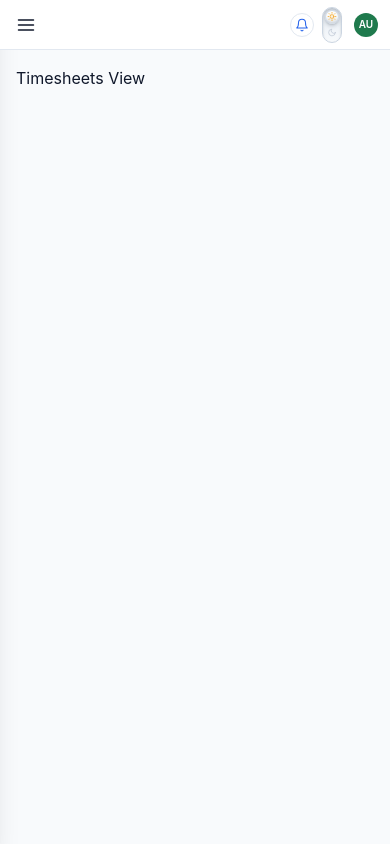
Scenario: AppShell › toggles mobile navigation drawer and closes on backdrop click
Click the button named "open navigation drawer" at (26, 24), box [12,10,40,38]
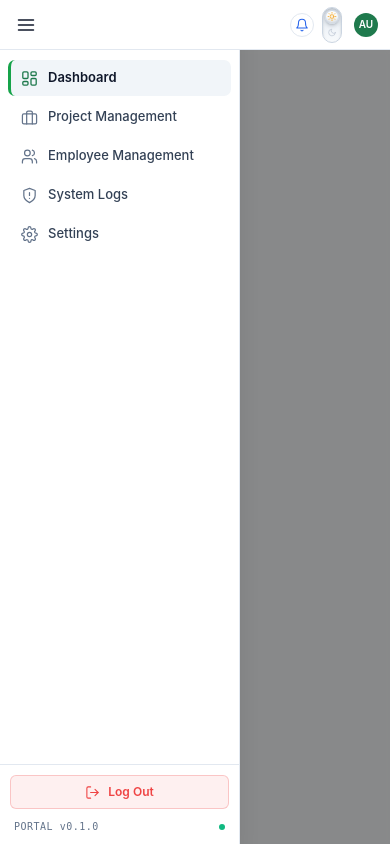
Expected: the element with test id "mobile-nav-backdrop" is shown
Click the element with test id "mobile-nav-backdrop" at (367, 422), box [0,0,389,843]
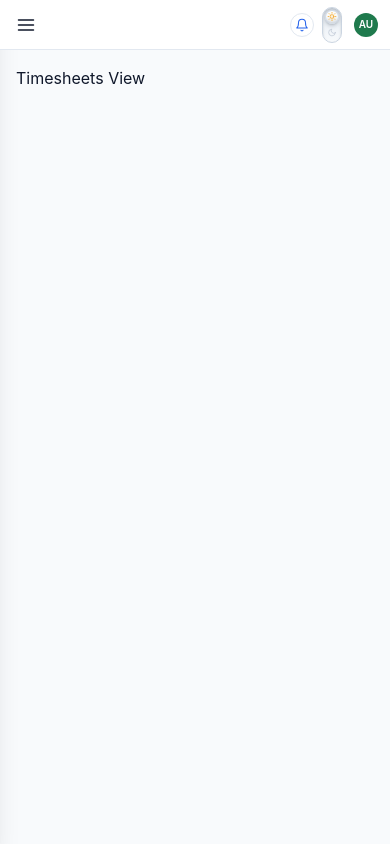
Expected: the element with test id "mobile-nav-backdrop" is gone
